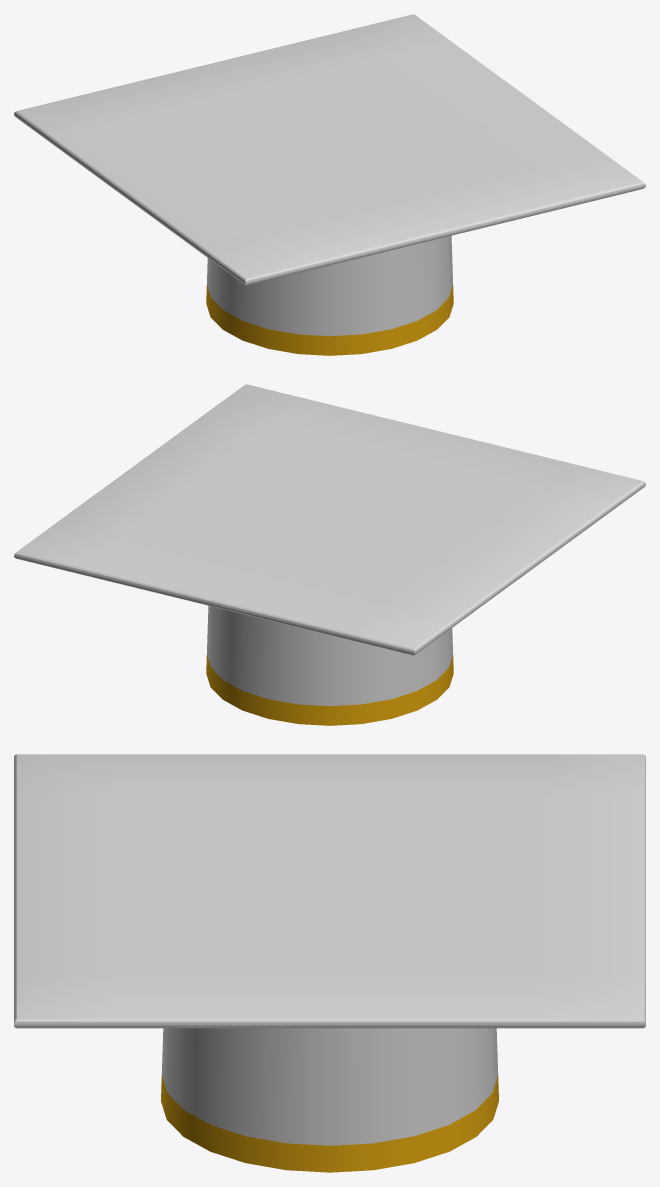
Rendered from Hat.fbx.
3 views of the same model, one above another, from view 1: azimuth 30°, elevation 25°; view 2: azimuth 150°, elevation 25°; view 3: azimuth 270°, elevation 25° (orthographic). The views are drawn at different scales.
Parts seen in each view (by area): view 1: Hat; view 2: Hat; view 3: Hat.
Part boxes in pixels (x1,y1,x2,y2): Hat: (14,14,645,355); Hat: (14,384,645,725); Hat: (14,754,645,1172).
Bounding box in the file's own units: 562 × 211 × 562.
